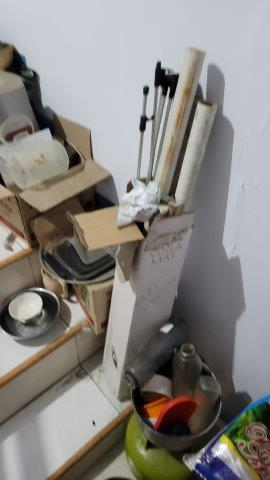kertas: (110, 179, 167, 229)
